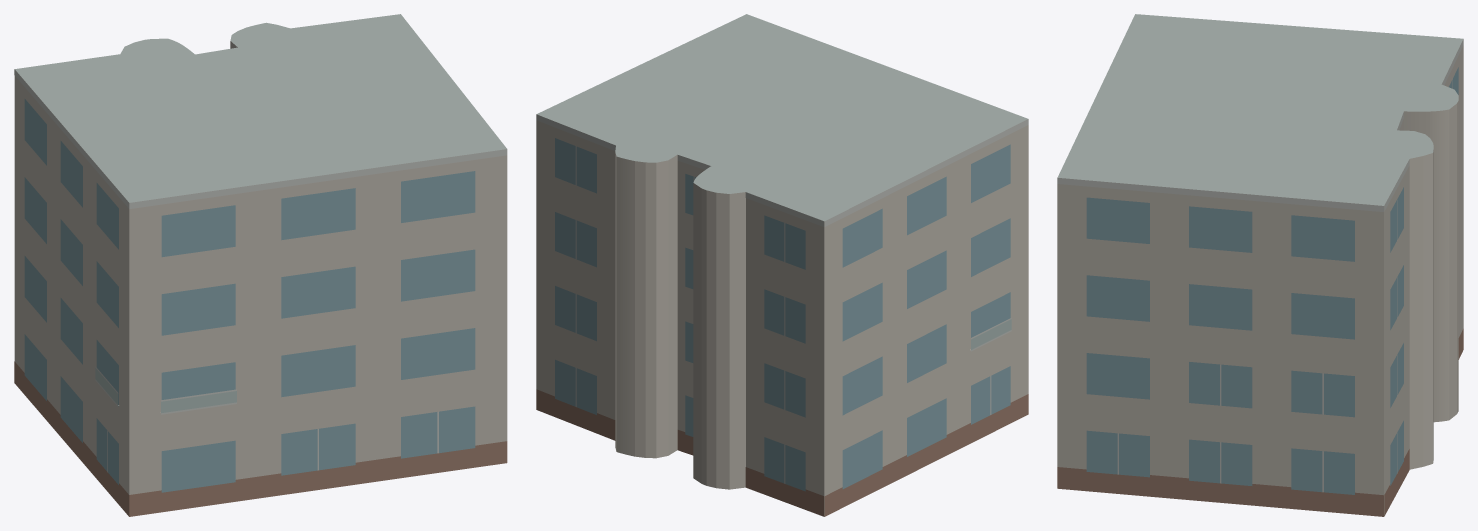
The model's file is survey-upis-32654740.glb.
3 views of the same model, side by side, from view 1: azimuth 30°, elevation 25°; view 2: azimuth 150°, elevation 25°; view 3: azimuth 270°, elevation 25° (orthographic). The views are drawn at different scales.
Visible parts, largest first — view 1: survey-upis-32654740.tmp; view 2: survey-upis-32654740.tmp; view 3: survey-upis-32654740.tmp.
Boxes of the visible parts, x1,y1,x2,y2 form: survey-upis-32654740.tmp: (14,14,507,516); survey-upis-32654740.tmp: (536,14,1028,516); survey-upis-32654740.tmp: (1057,14,1463,516).
Size of the model in its own units: 16.16 by 12.2 by 14.45.
